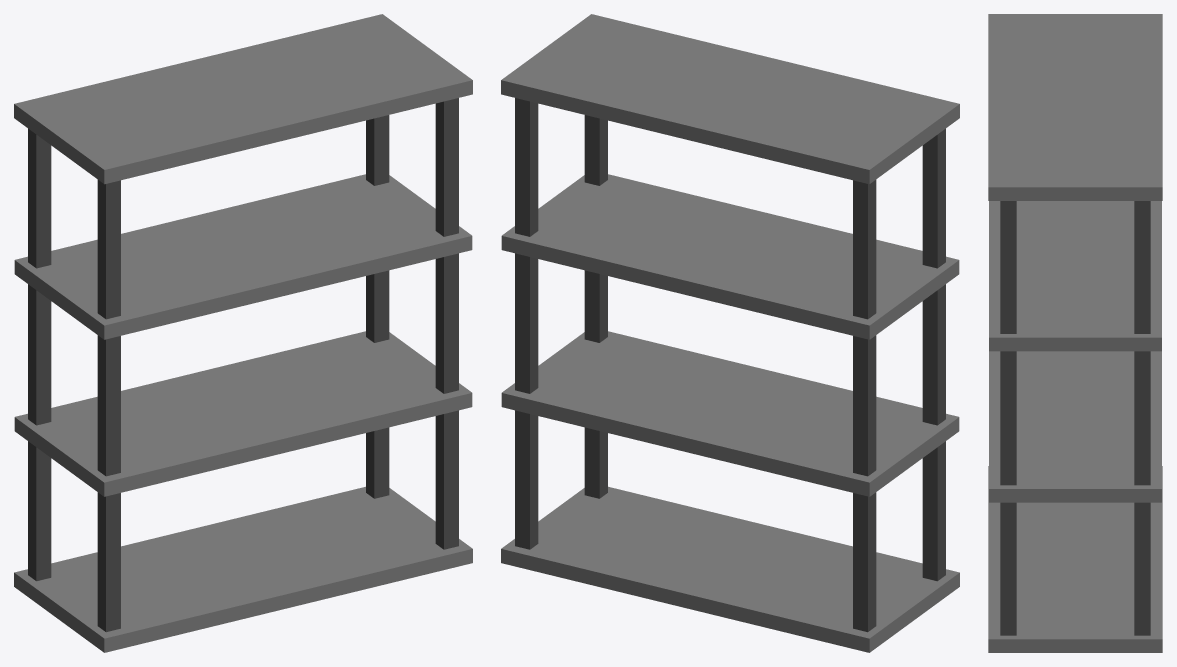
Rendered from Shelf.fbx.
3 renders of one model, left to right at view 1: azimuth 30°, elevation 25°; view 2: azimuth 150°, elevation 25°; view 3: azimuth 270°, elevation 25°, orthographic. The views are drawn at different scales.
Visible parts, largest first — view 1: Cube; view 2: Cube; view 3: Cube.
Boxes of the visible parts, x1=… form: Cube: x1=14, y1=14, x2=472, y2=652; Cube: x1=501, y1=14, x2=959, y2=652; Cube: x1=988, y1=14, x2=1162, y2=652.
Size of the model in its own units: 314 by 394 by 134.
